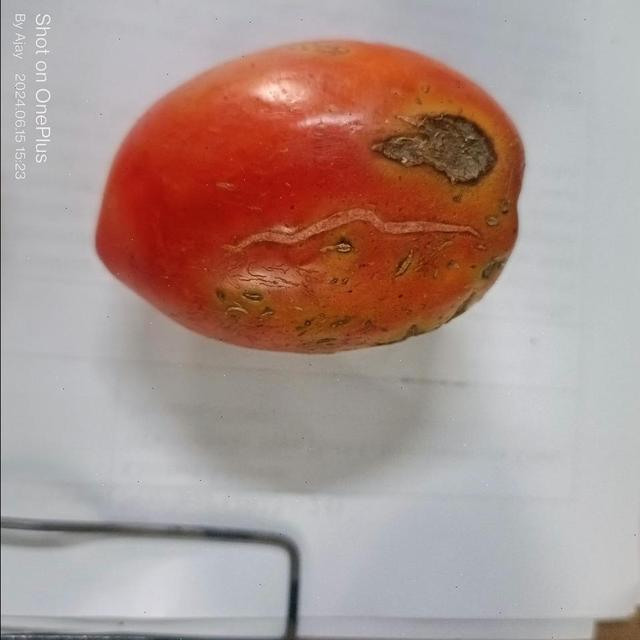Cracking Fruit: (250, 91, 340, 159)
